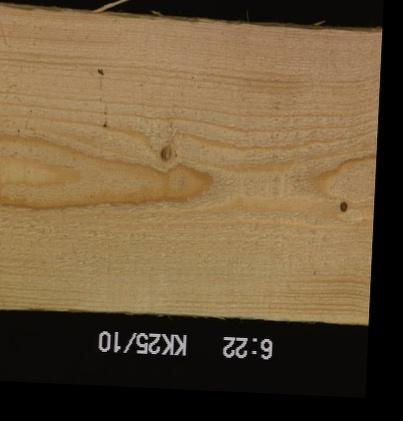dry_knot: (337, 198, 349, 213)
sound_knot: (158, 142, 174, 162)
